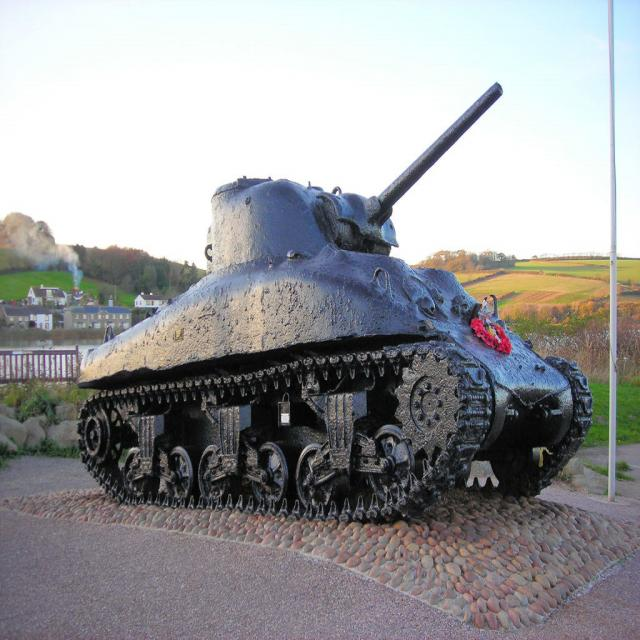tank: (76, 81, 595, 522)
